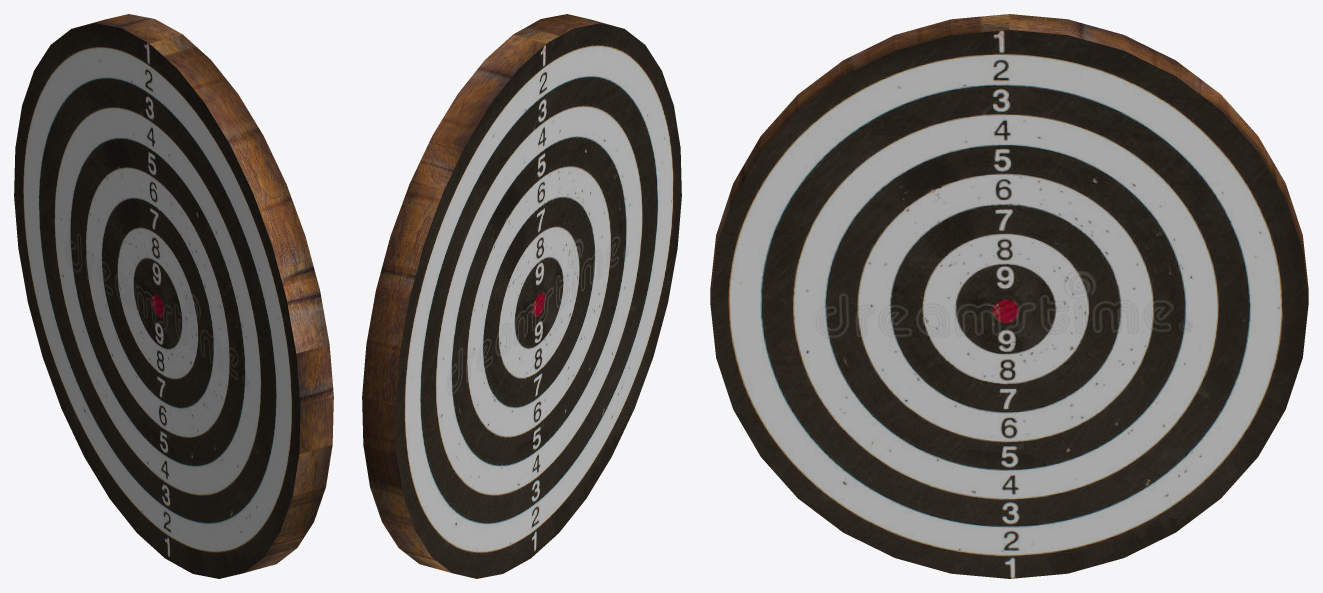
Rendered from darts_target.fbx.
The picture shows the model from 3 angles, left to right: view 1: azimuth 30°, elevation 25°; view 2: azimuth 150°, elevation 25°; view 3: azimuth 270°, elevation 25°; orthographic projection. The views are drawn at different scales.
Visible parts, largest first — view 1: Cylinder; view 2: Cylinder; view 3: Cylinder.
Boxes of the visible parts, x1,y1,x2,y2 form: Cylinder: [14, 14, 333, 578]; Cylinder: [362, 14, 681, 578]; Cylinder: [710, 14, 1308, 578].
Bounding box in the file's own units: 48.76 × 496 × 496.
Materials: 1 (1 with a texture image).
